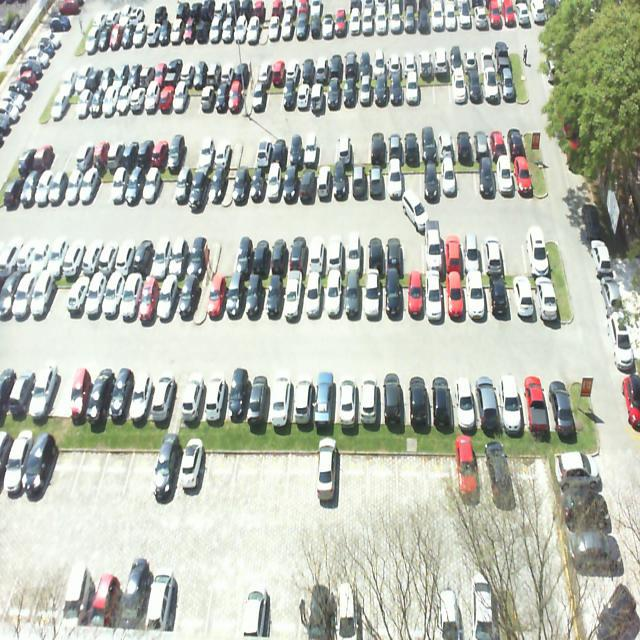space-empty: (94, 445, 132, 502), (123, 442, 157, 502), (43, 445, 79, 499), (71, 446, 106, 501), (231, 451, 264, 505), (204, 448, 238, 498), (259, 448, 291, 500), (288, 449, 314, 504), (505, 227, 527, 273), (155, 165, 177, 207), (404, 226, 424, 272), (213, 239, 235, 275), (458, 162, 478, 198), (403, 163, 421, 197)
space-occupied: (148, 444, 182, 500), (545, 370, 576, 426), (175, 445, 209, 495), (312, 451, 342, 507), (223, 370, 254, 424), (21, 446, 55, 494), (499, 373, 527, 431), (64, 367, 93, 421), (476, 372, 502, 429), (523, 371, 549, 428), (222, 272, 249, 326), (117, 271, 145, 323), (83, 371, 112, 421), (136, 267, 162, 321), (428, 375, 454, 429), (452, 374, 479, 426), (106, 371, 134, 421), (268, 373, 294, 425), (312, 372, 336, 428), (154, 274, 180, 324), (127, 370, 153, 420), (203, 370, 229, 420), (246, 372, 272, 422), (262, 270, 286, 324), (530, 270, 557, 318), (148, 374, 175, 422), (359, 371, 382, 426), (174, 272, 198, 324), (405, 374, 429, 426), (101, 270, 125, 320), (241, 275, 265, 325), (335, 373, 359, 423), (290, 372, 313, 424), (382, 371, 405, 423), (486, 273, 511, 320), (483, 227, 507, 275), (181, 373, 206, 419), (443, 226, 466, 273), (205, 273, 225, 327), (130, 236, 156, 276), (113, 238, 140, 276), (525, 229, 549, 271), (303, 276, 324, 324), (167, 238, 193, 276), (467, 275, 488, 322), (148, 237, 172, 278), (509, 276, 531, 320), (188, 164, 211, 206), (322, 277, 343, 323), (444, 277, 467, 319), (282, 276, 302, 324), (425, 229, 445, 276), (188, 239, 212, 278), (172, 165, 194, 207), (139, 165, 162, 205), (511, 156, 534, 196), (363, 276, 383, 322), (404, 274, 424, 320), (426, 276, 446, 322), (382, 231, 404, 272), (204, 166, 226, 206), (287, 234, 309, 274), (464, 228, 484, 272), (231, 164, 252, 205), (229, 238, 251, 277), (251, 235, 273, 273), (345, 231, 364, 275), (384, 276, 402, 322), (268, 236, 290, 272), (345, 275, 362, 321), (307, 234, 327, 273), (324, 235, 344, 273), (364, 235, 383, 273), (478, 158, 496, 198), (299, 166, 317, 205), (283, 164, 300, 205), (250, 166, 268, 204), (368, 162, 386, 200), (494, 160, 514, 194), (267, 166, 283, 207), (333, 165, 350, 201), (422, 163, 440, 197), (388, 162, 404, 200), (440, 162, 458, 195), (316, 166, 332, 200), (351, 164, 367, 198)
